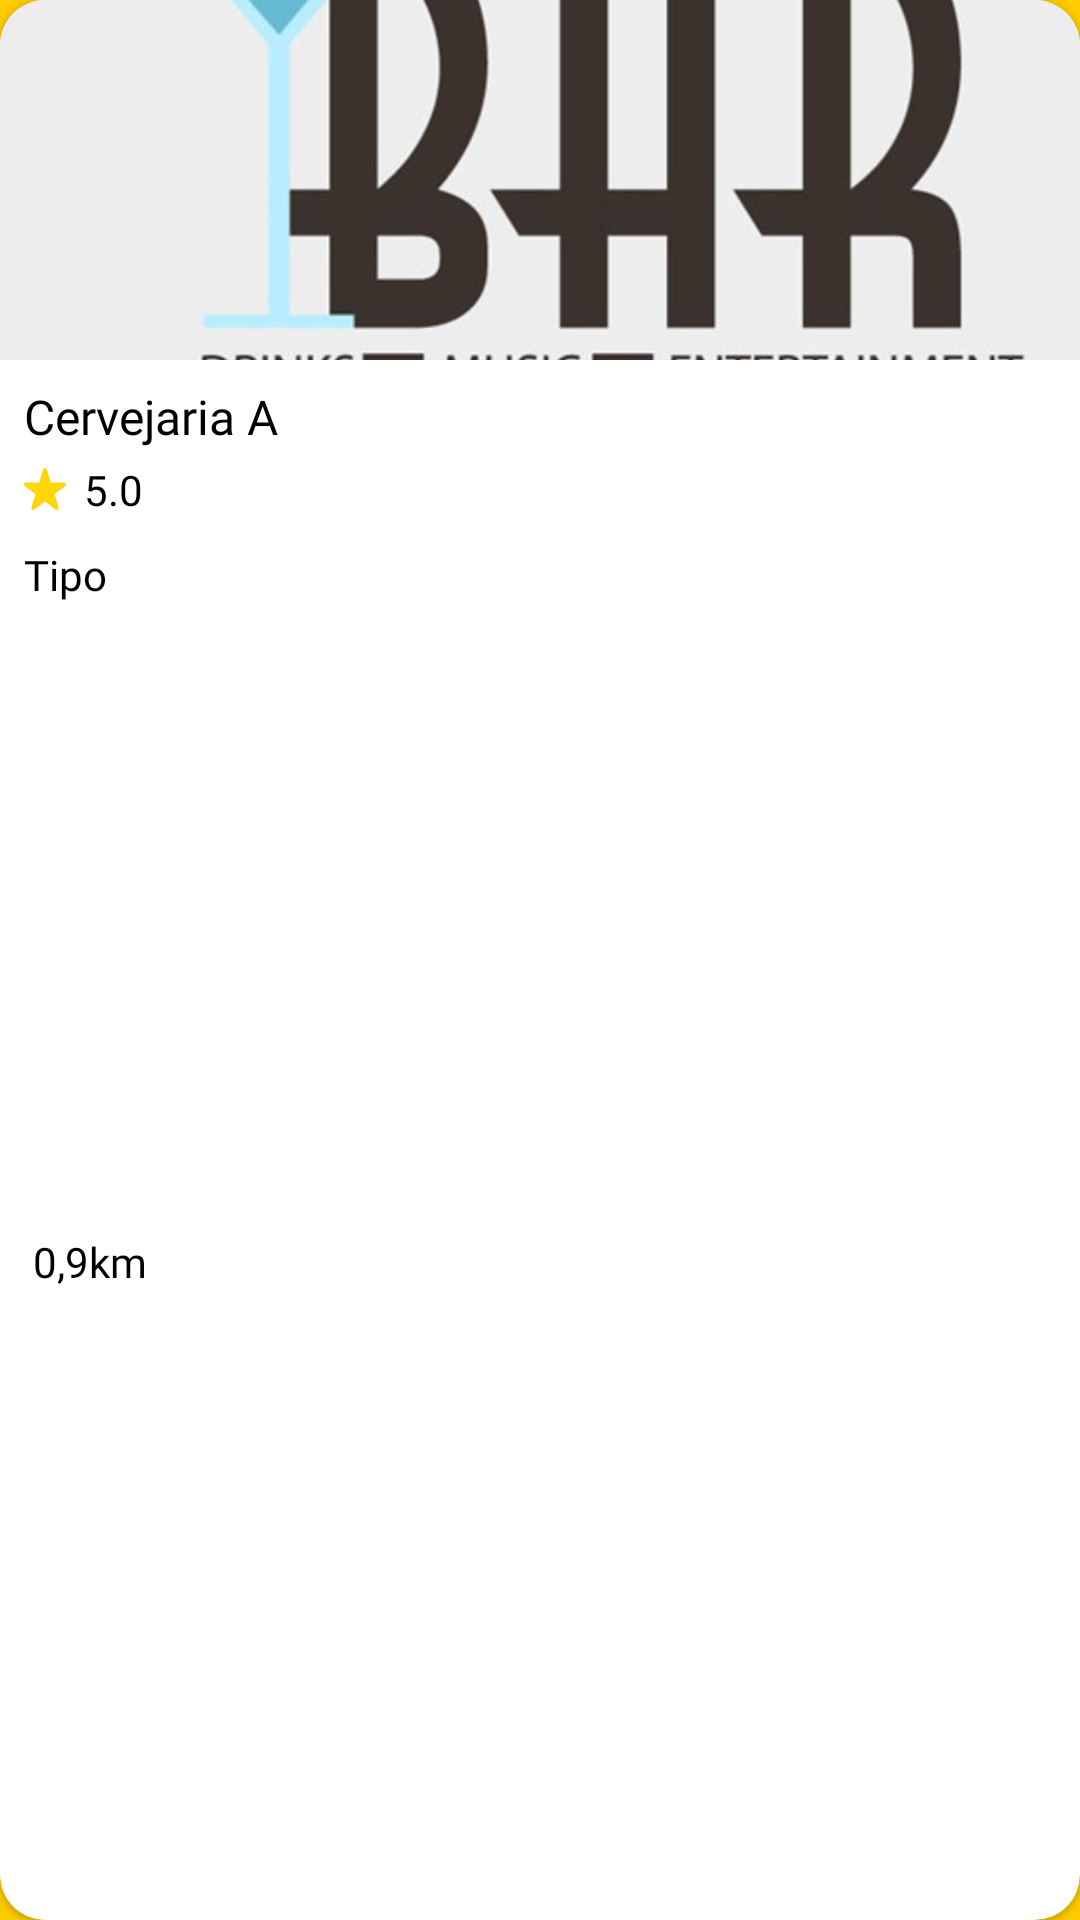

Where icons sit on this 1080 × 1920 app screen, as bbox=[x1, y1, x2, y2]:
star: bbox=[24, 468, 66, 510]
